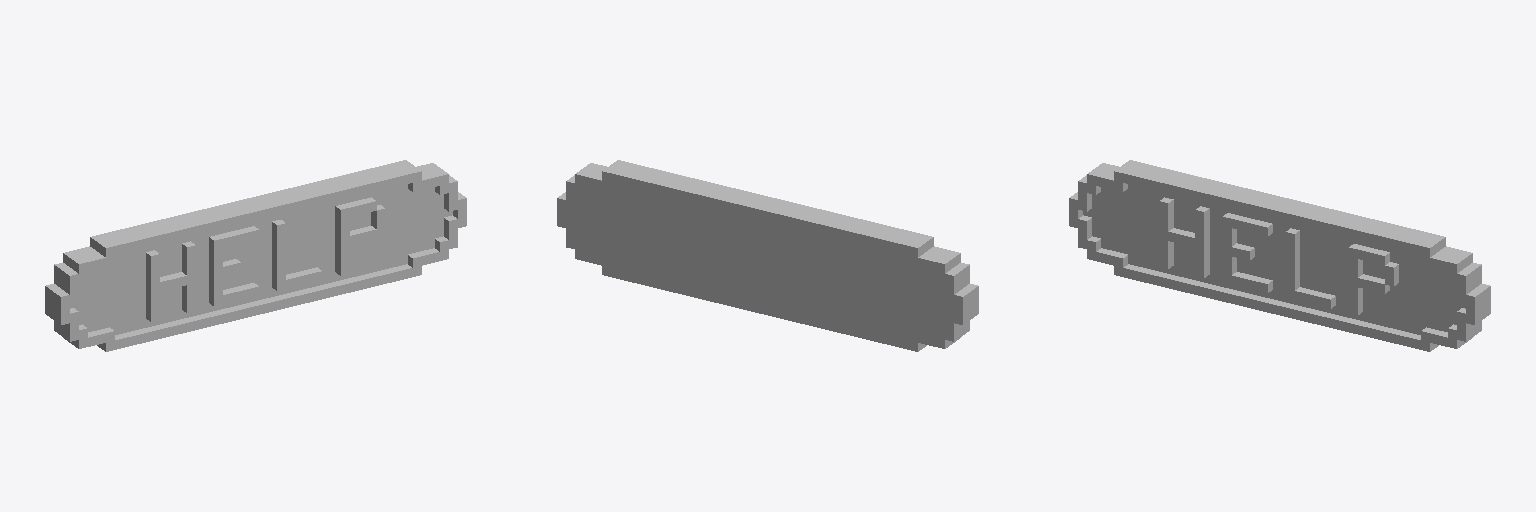
Rendered from Buttons good-1.obj.
3 views of the same model, side by side, from view 1: azimuth 30°, elevation 25°; view 2: azimuth 150°, elevation 25°; view 3: azimuth 330°, elevation 25° (orthographic).
Visible parts, largest first — view 1: Buttons good-1; view 2: Buttons good-1; view 3: Buttons good-1.
Part boxes in pixels (bbox=[...]): Buttons good-1: bbox=[45, 160, 466, 351]; Buttons good-1: bbox=[557, 160, 978, 351]; Buttons good-1: bbox=[1069, 160, 1490, 351].
Size of the model in its own units: 45 by 11 by 3.